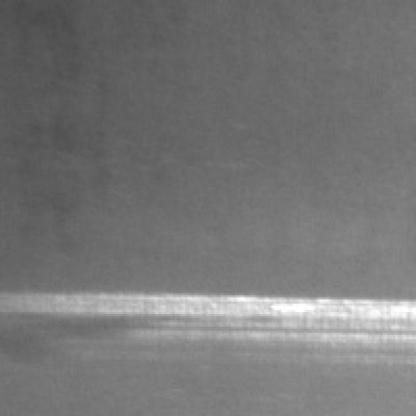scratches: (8, 293, 416, 362)
